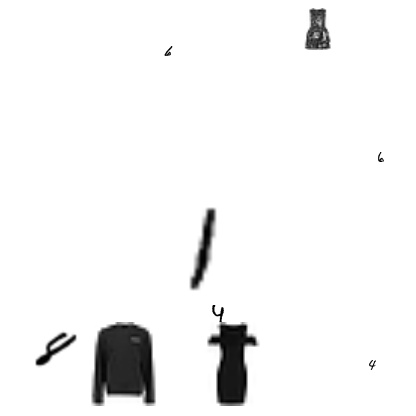1: (147, 193, 259, 305)
4: (204, 299, 232, 327), (365, 357, 379, 371)
6: (161, 45, 175, 59), (373, 151, 387, 165)
8: (26, 319, 82, 375)
Dress: (190, 322, 274, 406), (296, 8, 338, 50)
Pullover: (80, 322, 164, 406)
